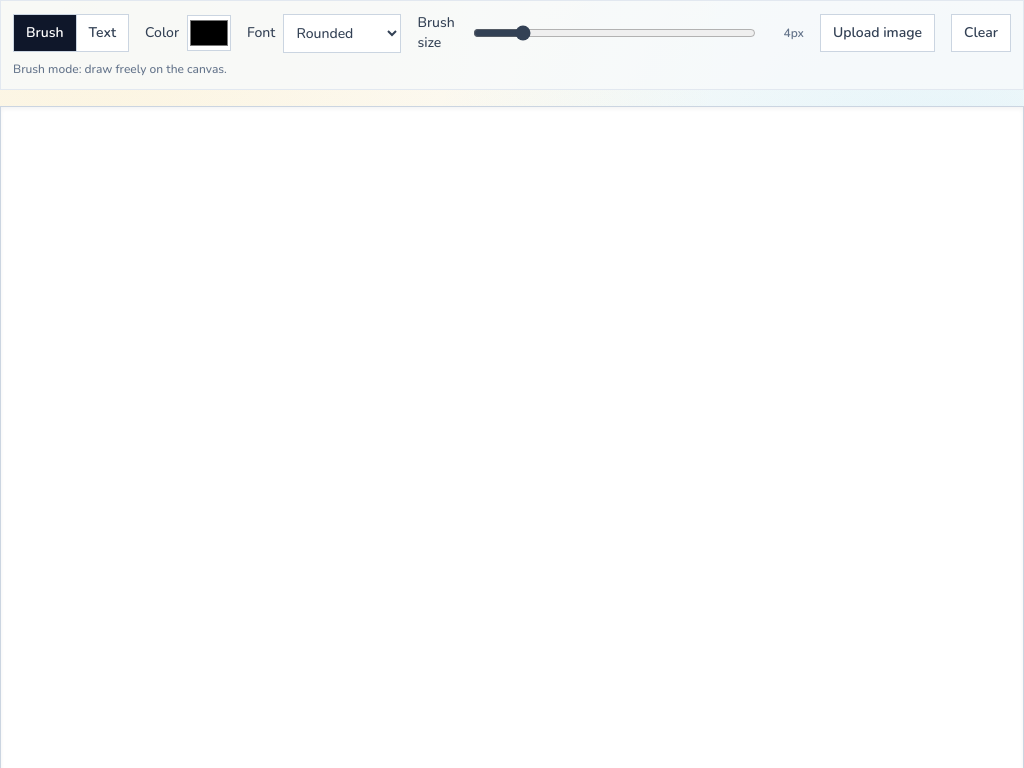
Scenario: DrawingBoard text tool › updates brush size continuously via input events while dragging
This screenshot has width=1024, height=768.
Expected: the text "4px" is shown, [783,25,804,41]
Set the slider labelled "Brush size" to "9": (593, 33) [473,25,756,41]
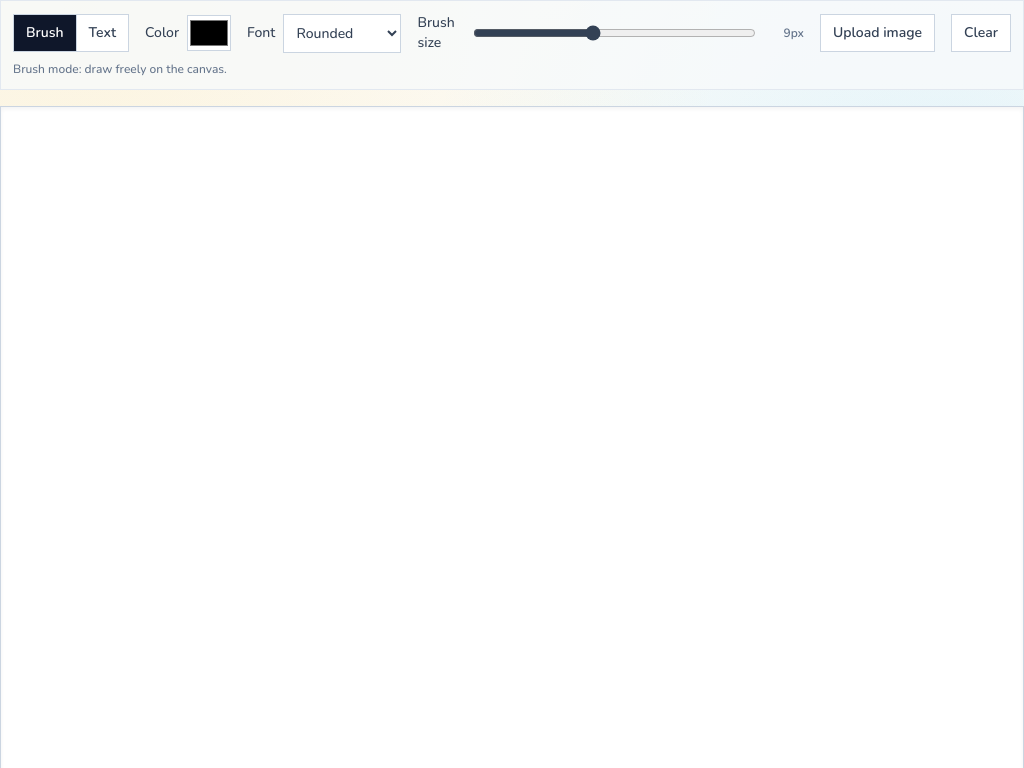
Result: the text "9px" is shown at [783,25,804,41]
Set the slider labelled "Brush size" to "15": (678, 33) [473,25,756,41]
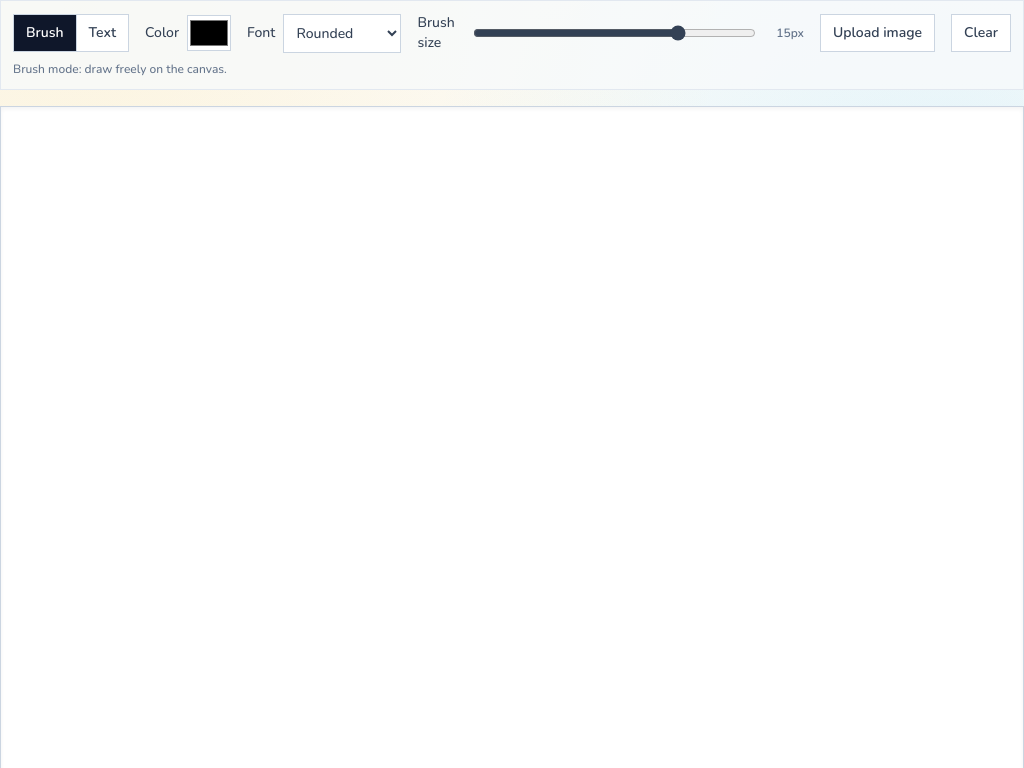
Result: the text "15px" is shown at [776,25,804,41]
Press the mouse on the slider labelled "Brush size": (614, 33) [473,25,756,41]
Set the slider labelled "Brush size" to "18": (720, 33) [473,25,756,41]
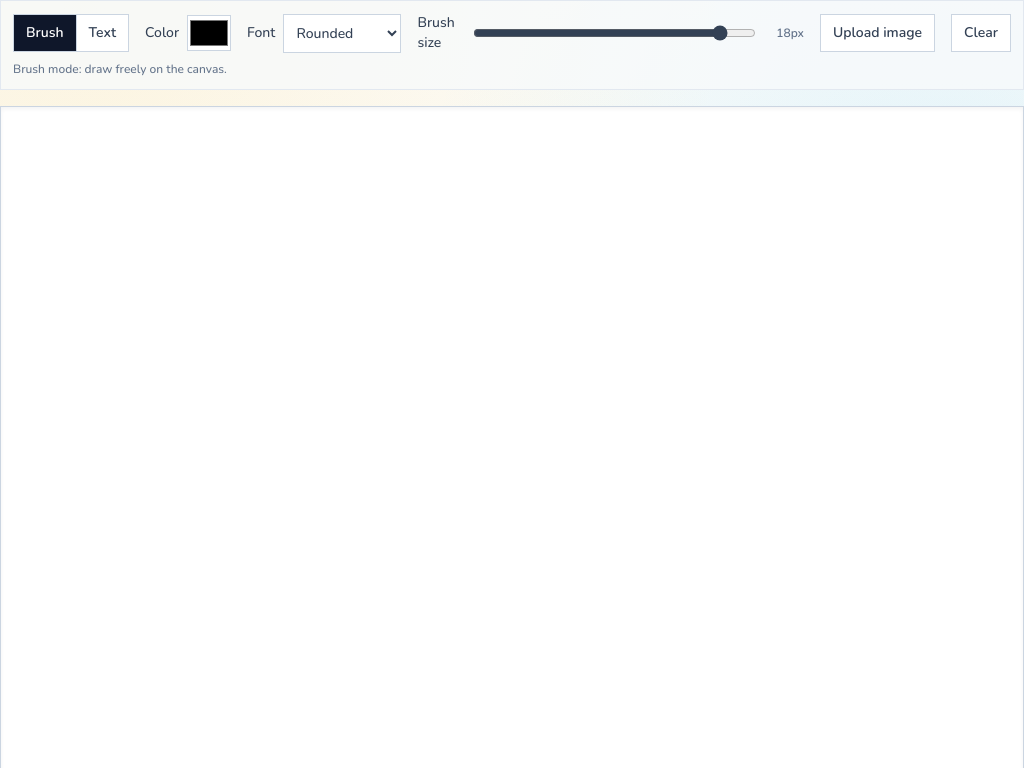
Result: the text "18px" is shown at [776,25,804,41]
